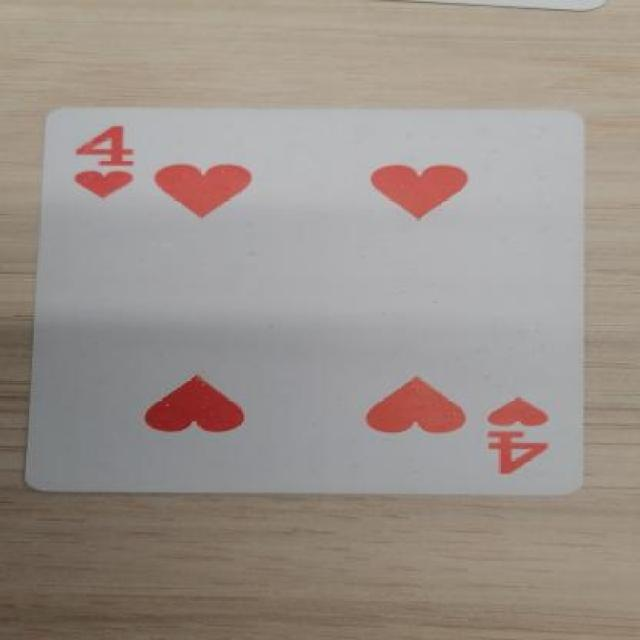4H: (471, 382, 575, 495), (56, 116, 152, 204)
